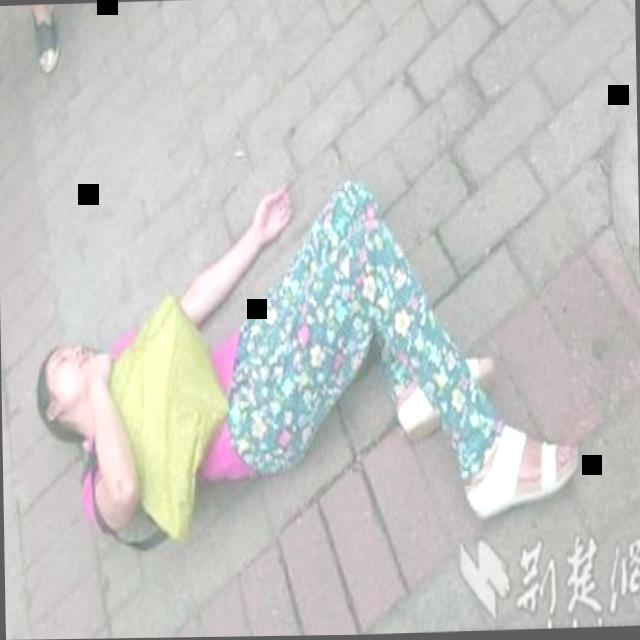Fall-Detected: (12, 134, 599, 577)
